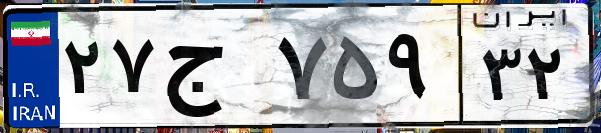2: (57, 26, 110, 100), (525, 38, 570, 115)
3: (475, 38, 525, 113)
5: (330, 28, 385, 110)
7: (270, 28, 330, 110), (110, 28, 158, 98)
9: (385, 28, 445, 110)
ج: (158, 20, 270, 120)
